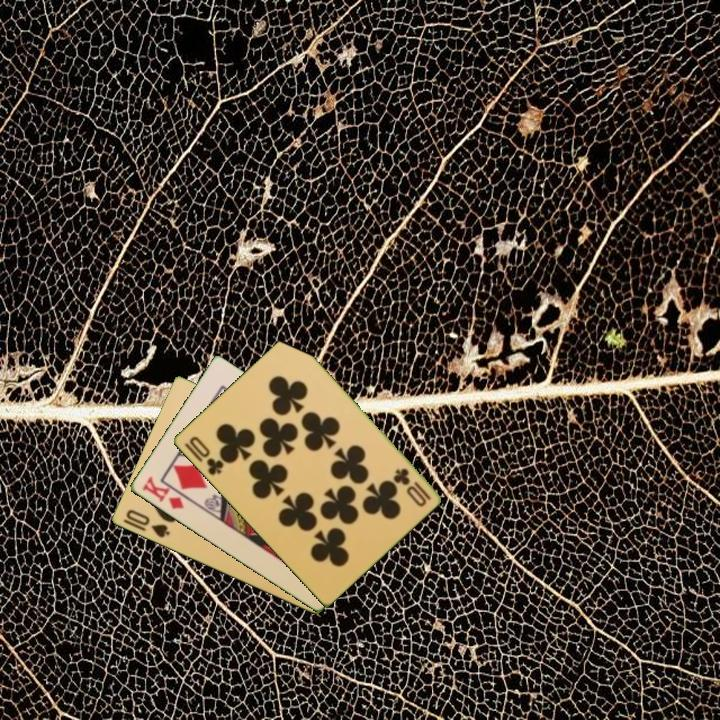10c: (185, 432, 226, 478), (390, 465, 434, 503)
10s: (122, 506, 172, 541)
Kd: (138, 473, 186, 512)
